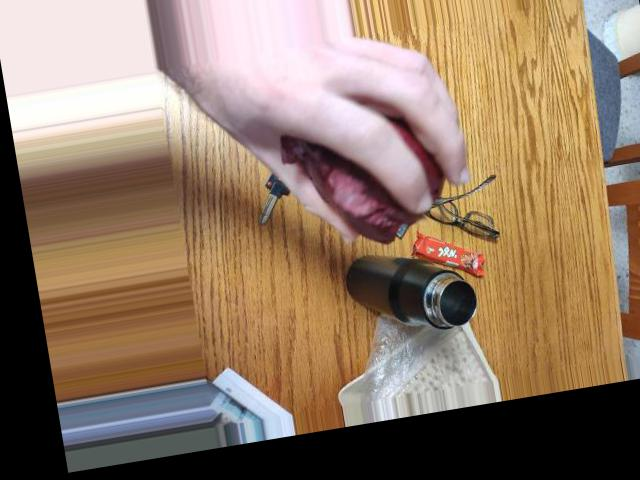onion: (316, 110, 456, 240)
